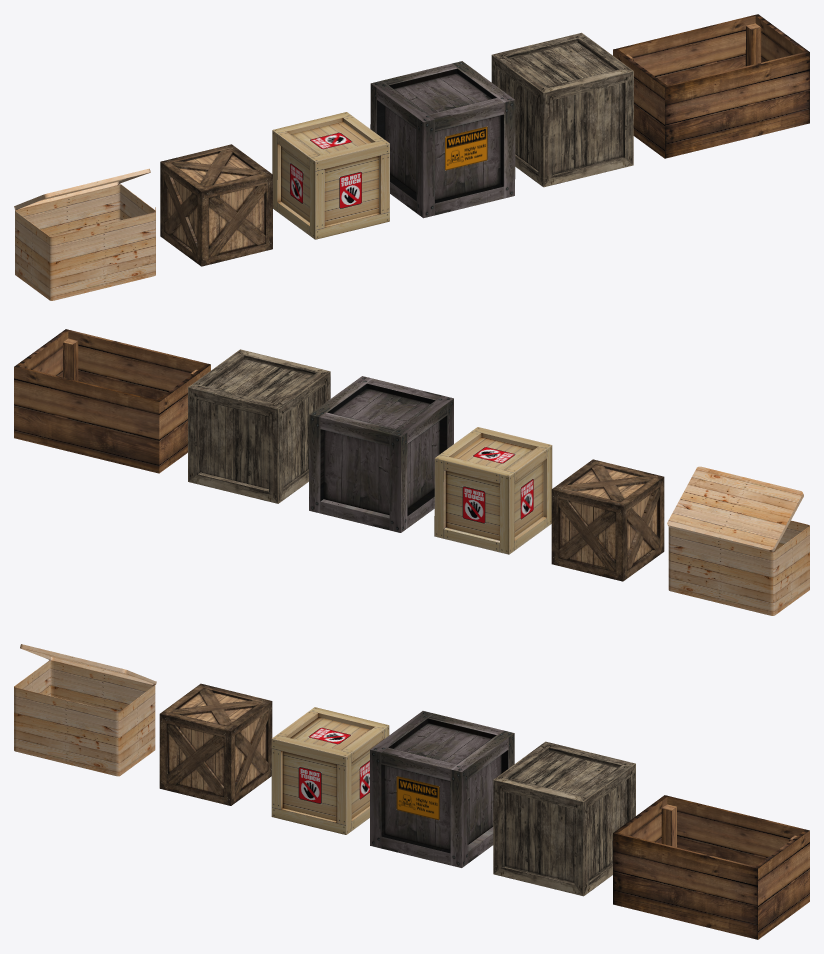
The model's file is wooden_boxes_and_crates_kit.glb.
3 renders of one model, top to bottom at view 1: azimuth 30°, elevation 25°; view 2: azimuth 150°, elevation 25°; view 3: azimuth 330°, elevation 25°, orthographic.
Parts seen in each view (by area): view 1: Box6 by Jungle Jim, Box2 by Jungle Jim, Box5 by Jungle Jim, Box4 by Jungle Jim, Box1 by Jungle Jim, Box3 by Jungle Jim, Lid; view 2: Box6 by Jungle Jim, Box2 by Jungle Jim, Box5 by Jungle Jim, Box1 by Jungle Jim, Box3 by Jungle Jim, Box4 by Jungle Jim, Lid; view 3: Box6 by Jungle Jim, Box2 by Jungle Jim, Box5 by Jungle Jim, Box4 by Jungle Jim, Box3 by Jungle Jim, Box1 by Jungle Jim, Lid.
Boxes of the visible parts, x1,y1,x2,y2 form: Box6 by Jungle Jim: [613, 14, 809, 158]; Box2 by Jungle Jim: [370, 61, 515, 218]; Box5 by Jungle Jim: [491, 32, 633, 187]; Box4 by Jungle Jim: [15, 184, 155, 300]; Box1 by Jungle Jim: [272, 112, 389, 239]; Box3 by Jungle Jim: [160, 144, 272, 266]; Lid: [14, 168, 150, 209]; Box6 by Jungle Jim: [14, 329, 210, 473]; Box2 by Jungle Jim: [309, 376, 453, 532]; Box5 by Jungle Jim: [188, 349, 330, 503]; Box1 by Jungle Jim: [434, 427, 552, 554]; Box3 by Jungle Jim: [551, 459, 664, 581]; Box4 by Jungle Jim: [668, 520, 809, 615]; Lid: [667, 466, 803, 552]; Box6 by Jungle Jim: [613, 795, 809, 939]; Box2 by Jungle Jim: [370, 711, 514, 867]; Box5 by Jungle Jim: [493, 741, 635, 896]; Box4 by Jungle Jim: [14, 660, 155, 776]; Box3 by Jungle Jim: [159, 683, 272, 805]; Box1 by Jungle Jim: [271, 707, 389, 834]; Lid: [20, 644, 156, 684].
Size of the model in its own units: 45.7 by 5.95 by 5.67.
Materials: 8 (8 with a texture image).
